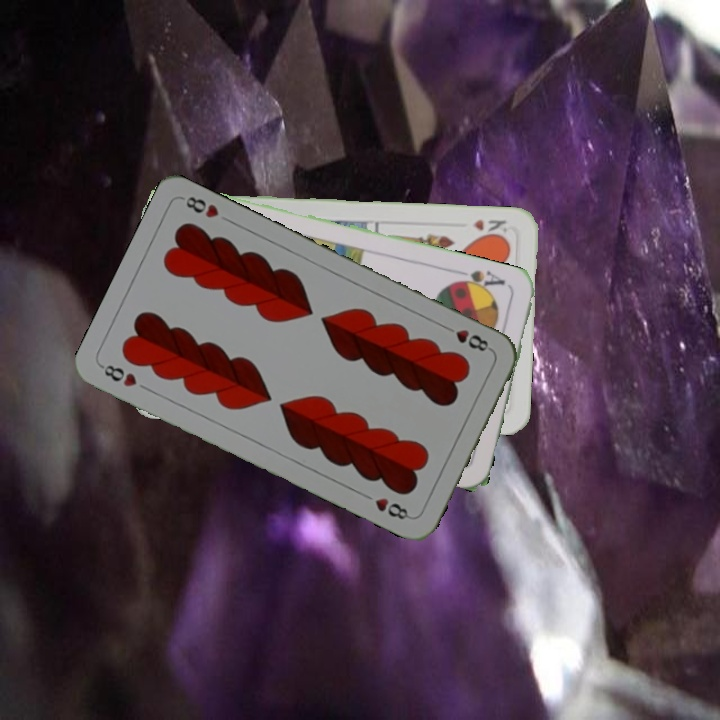H8: (439, 321, 495, 355), (97, 360, 140, 390)
HK: (470, 215, 509, 240)
SA: (451, 266, 508, 295)
